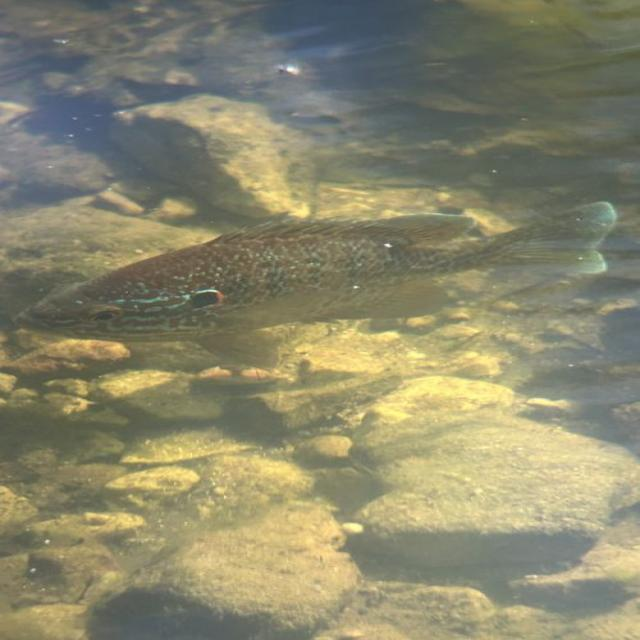Gunes Levregi: (16, 192, 625, 386)
